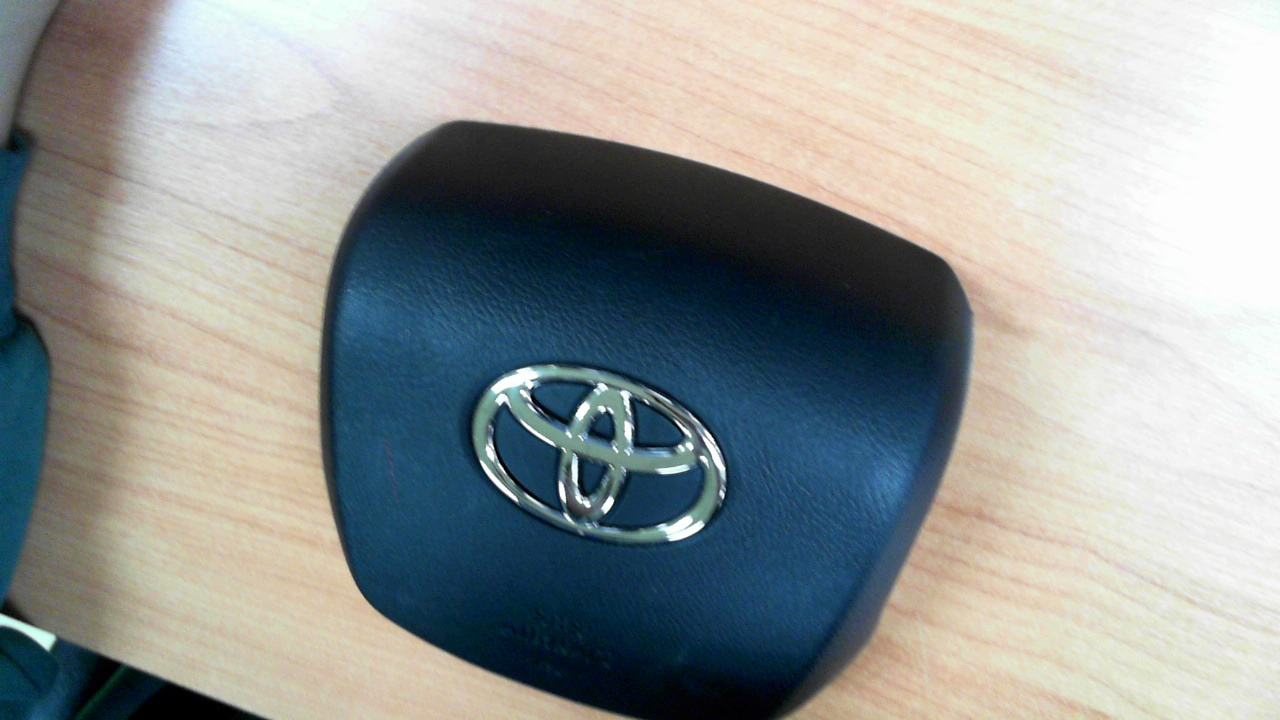Airbag: (320, 121, 974, 719)
Toyota: (472, 364, 727, 544)
